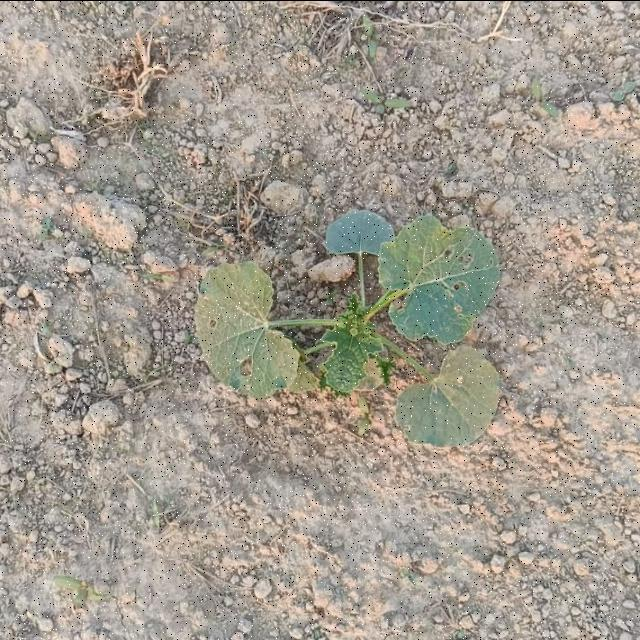plant: (195, 209, 500, 446)
